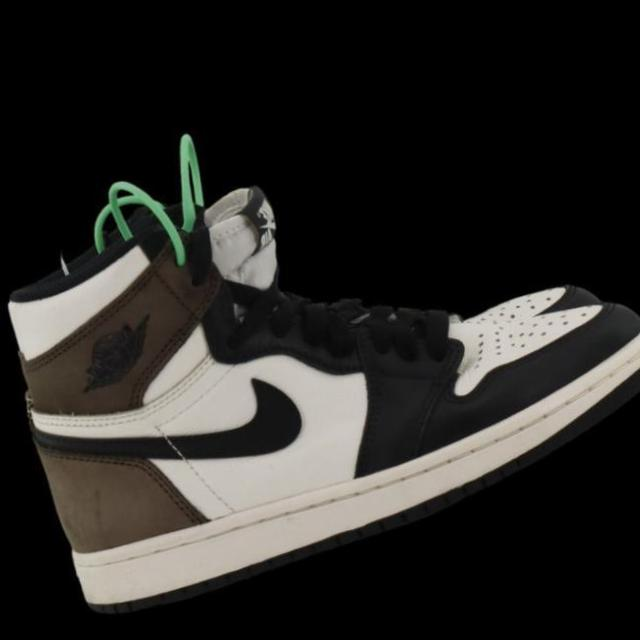nike_original_jordan: (0, 51, 640, 637), (35, 58, 624, 484)
